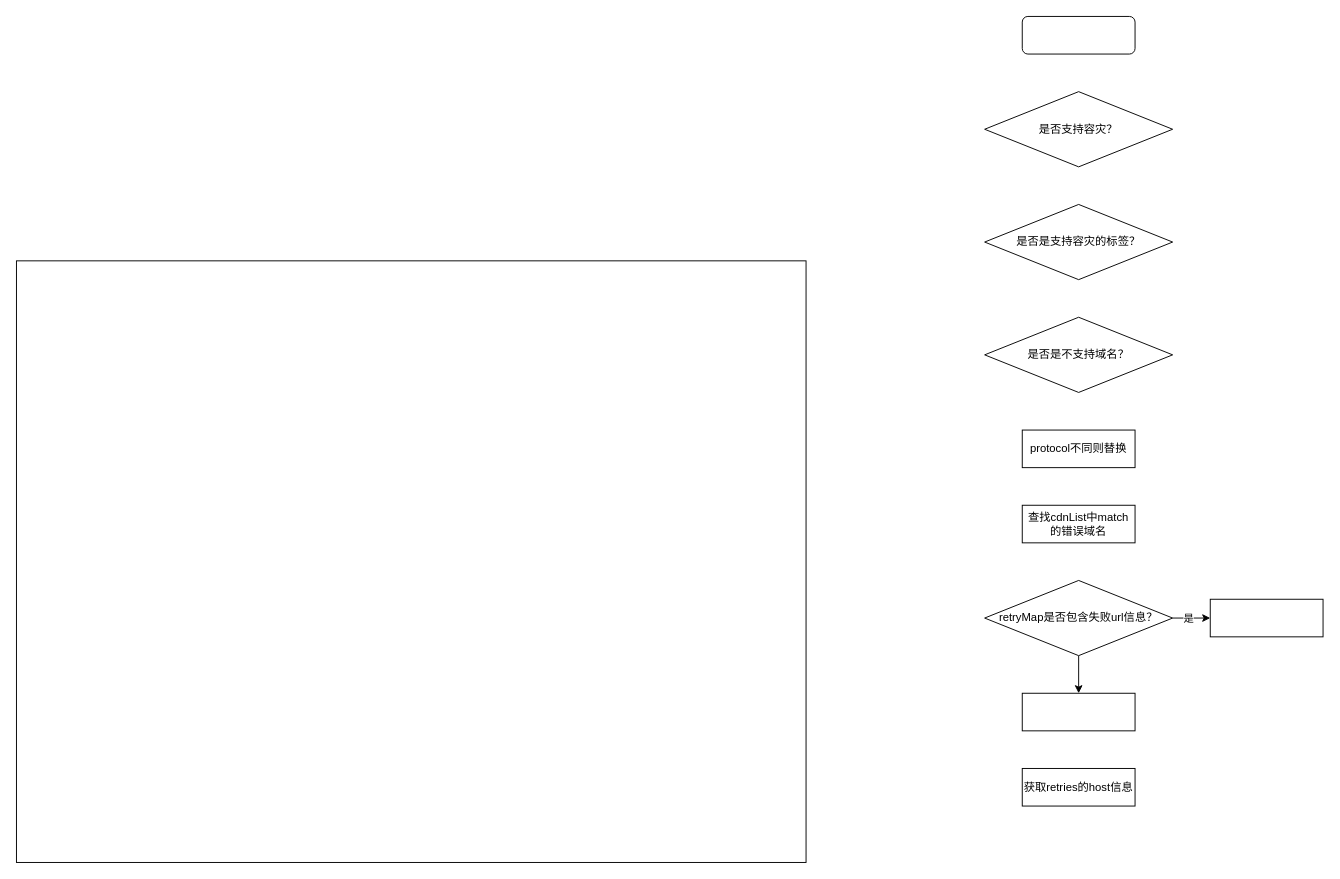
Some shapes in this 1340 by 879 pixel diagram are drawn without their labels. Each missing label, with the centre of its shape:
windows监听 error事件: point 1078,35
新增url容灾信息和备用域名: point 1266,617
获取retryMap中的cdn容灾信息: point 1078,711
